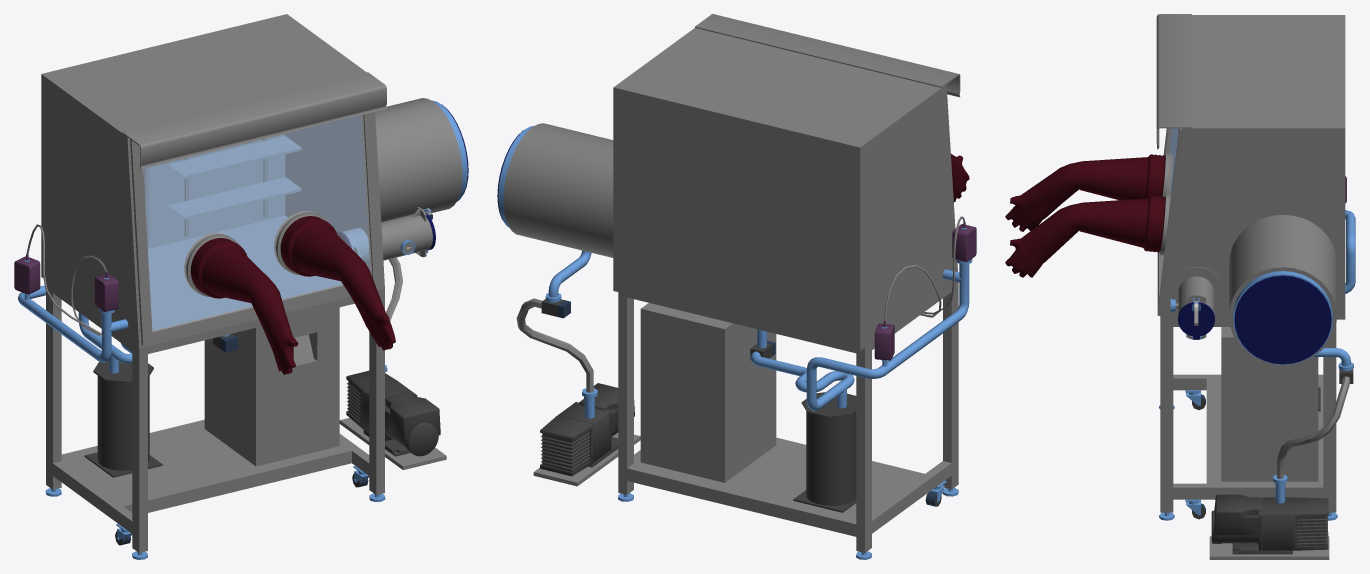
The model's file is m_braun_labster_v3.fbx.
3 views of the same model, side by side, from view 1: azimuth 30°, elevation 25°; view 2: azimuth 150°, elevation 25°; view 3: azimuth 270°, elevation 25° (orthographic). The views are drawn at different scales.
Visible parts, largest first — view 1: vavq_chamber, vacq_window, vacq_gloves; view 2: vavq_chamber; view 3: vavq_chamber, vacq_gloves, vacq_hatch_01, vacq_window.
Part boxes in pixels (left/top/right/bottom): vavq_chamber: left=14, top=14, right=468, bottom=559; vacq_window: left=143, top=115, right=372, bottom=331; vacq_gloves: left=184, top=211, right=395, bottom=374; vavq_chamber: left=497, top=14, right=976, bottom=559; vavq_chamber: left=1156, top=14, right=1355, bottom=559; vacq_gloves: left=1005, top=153, right=1172, bottom=277; vacq_hatch_01: left=1178, top=302, right=1214, bottom=339; vacq_window: left=1160, top=128, right=1178, bottom=284.
Bounding box in the file's own units: 211 × 206 × 167.
